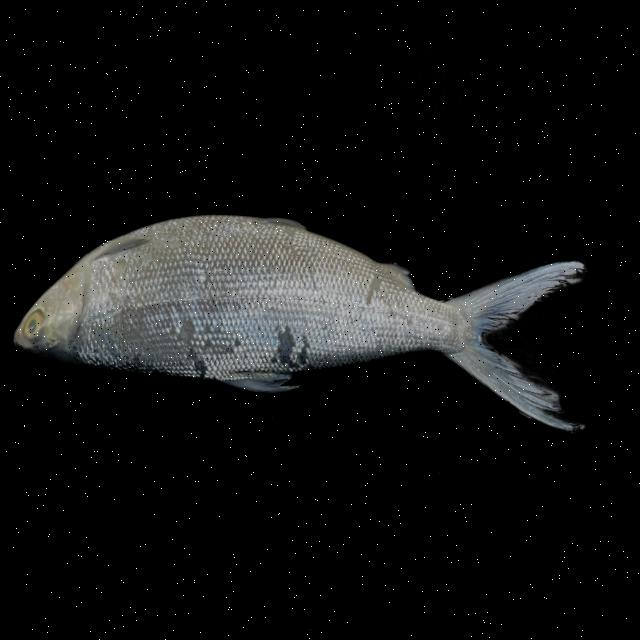660 g: (7, 194, 595, 460)
